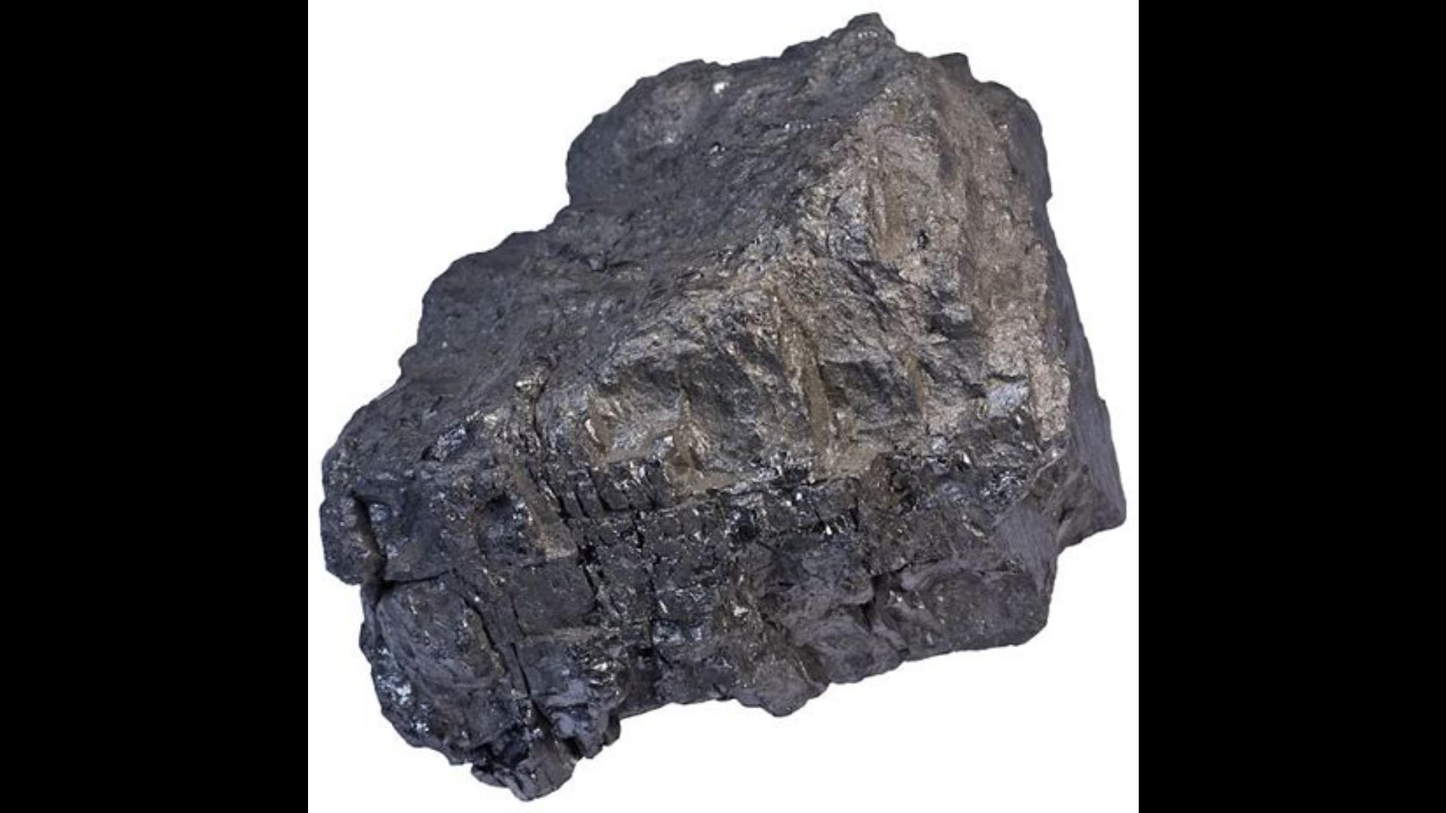rock: (323, 14, 1122, 797)
